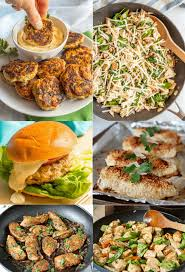Chicken: (8, 223, 38, 257)
